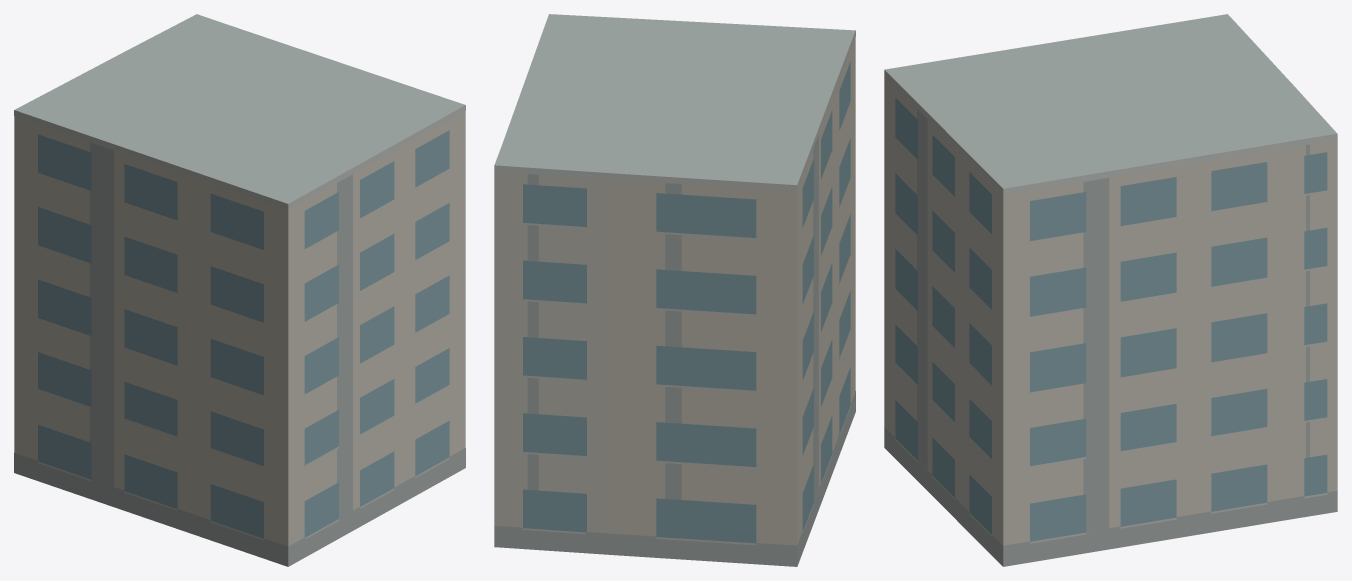
The model's file is survey-upis-32853846.glb.
3 renders of one model, left to right at view 1: azimuth 30°, elevation 25°; view 2: azimuth 150°, elevation 25°; view 3: azimuth 270°, elevation 25°, orthographic. The views are drawn at different scales.
Parts seen in each view (by area): view 1: survey-upis-32853846.tmp; view 2: survey-upis-32853846.tmp; view 3: survey-upis-32853846.tmp.
Part boxes in pixels (x1,y1,x2,y2): survey-upis-32853846.tmp: [14, 14, 465, 566]; survey-upis-32853846.tmp: [494, 14, 855, 566]; survey-upis-32853846.tmp: [884, 14, 1337, 566].
Bounding box in the file's own units: 14.28 × 14.4 × 15.65.
